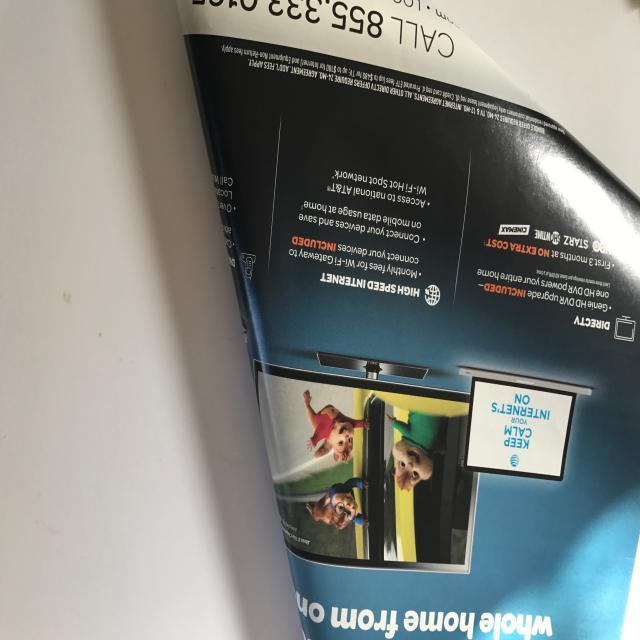paper: (165, 0, 640, 640)
